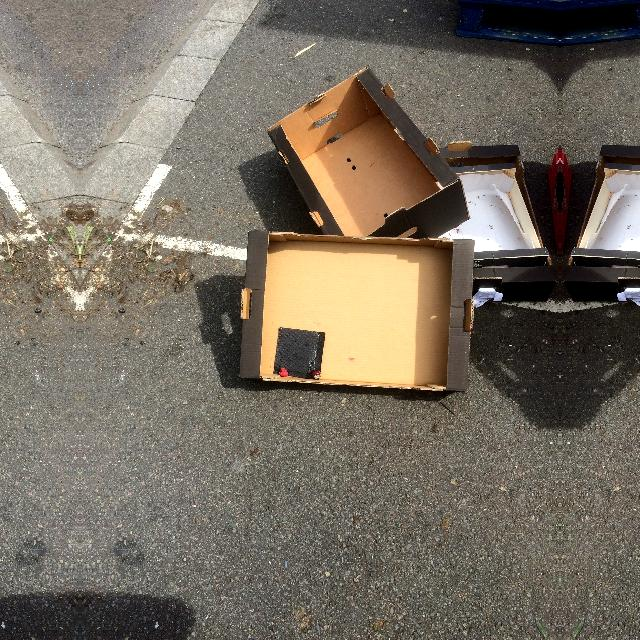Cardboard: (231, 61, 553, 402), (567, 60, 640, 401)
